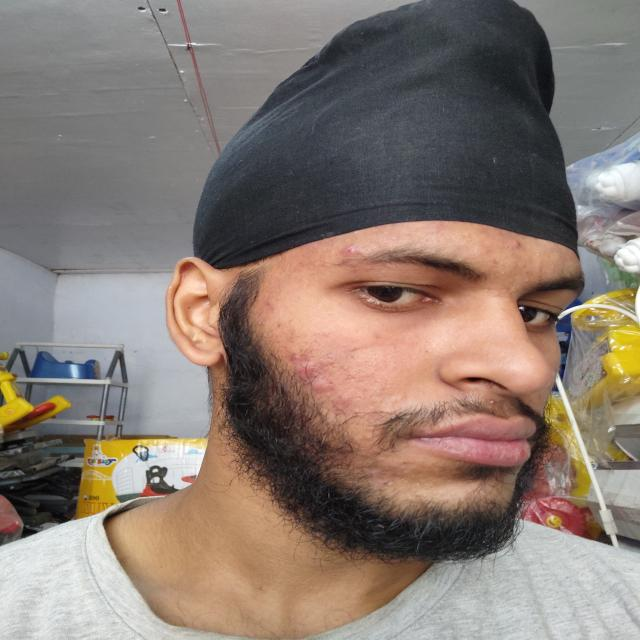Acne: (400, 472, 431, 488), (291, 352, 314, 373), (309, 378, 333, 393), (338, 391, 359, 407), (508, 238, 526, 252), (369, 470, 383, 484), (385, 476, 399, 488), (494, 288, 512, 296), (342, 245, 356, 255), (481, 286, 492, 296), (501, 268, 512, 278), (532, 250, 544, 259), (387, 236, 400, 243), (523, 278, 533, 286), (488, 399, 498, 406), (256, 319, 264, 326)
Englarged-Pores: (330, 339, 424, 398), (276, 255, 314, 273), (315, 244, 340, 260), (268, 322, 290, 334)
